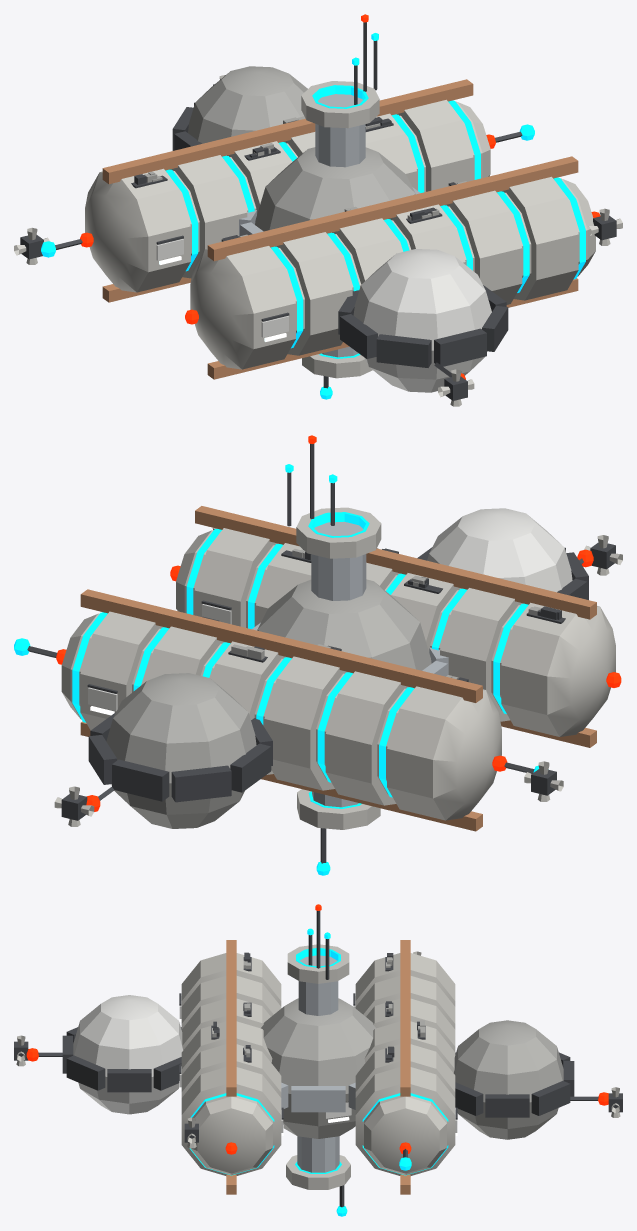
Rendered from electrolysis.glb.
3 views of the same model, one above another, from view 1: azimuth 30°, elevation 25°; view 2: azimuth 150°, elevation 25°; view 3: azimuth 270°, elevation 25° (orthographic). The views are drawn at different scales.
Visible parts, largest first — view 1: electrolysis; view 2: electrolysis; view 3: electrolysis.
Boxes of the visible parts, x1=… form: electrolysis: x1=14, y1=14, x2=622, y2=406; electrolysis: x1=14, y1=435, x2=622, y2=875; electrolysis: x1=14, y1=904, x2=622, y2=1216.
Bounding box in the file's own units: 1.56 × 1.13 × 1.94.
